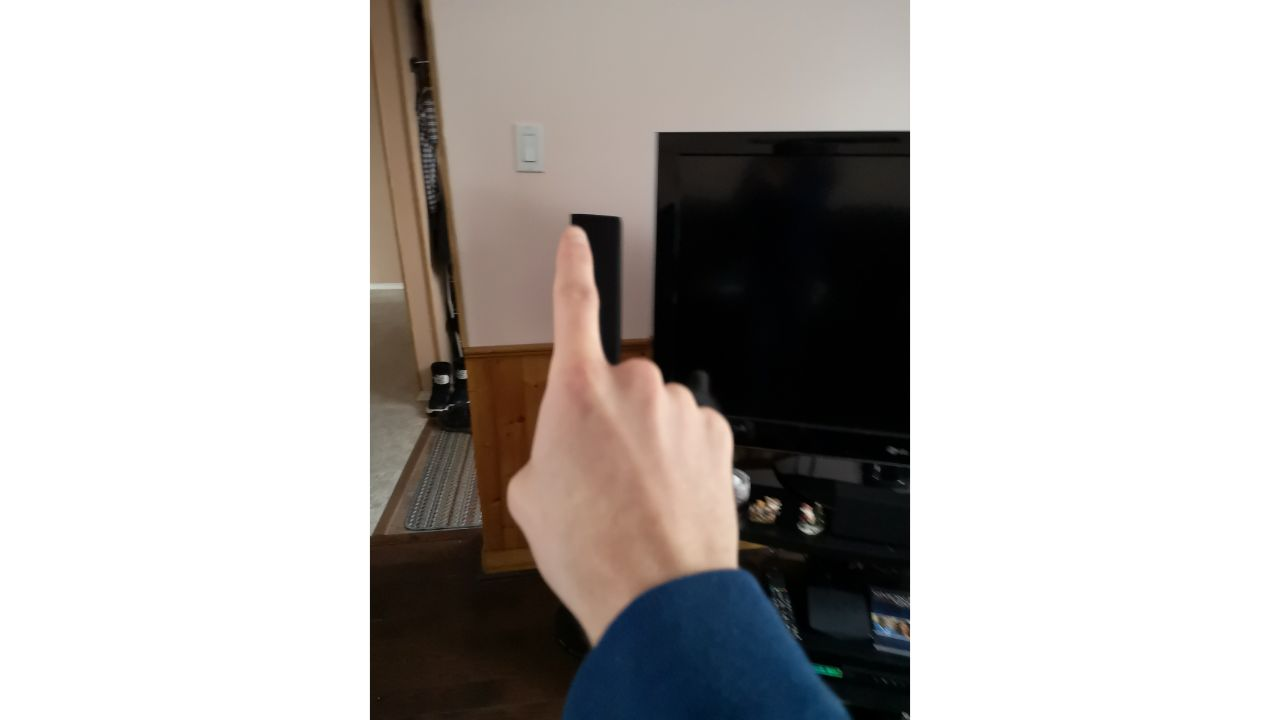finger: (506, 224, 749, 589)
